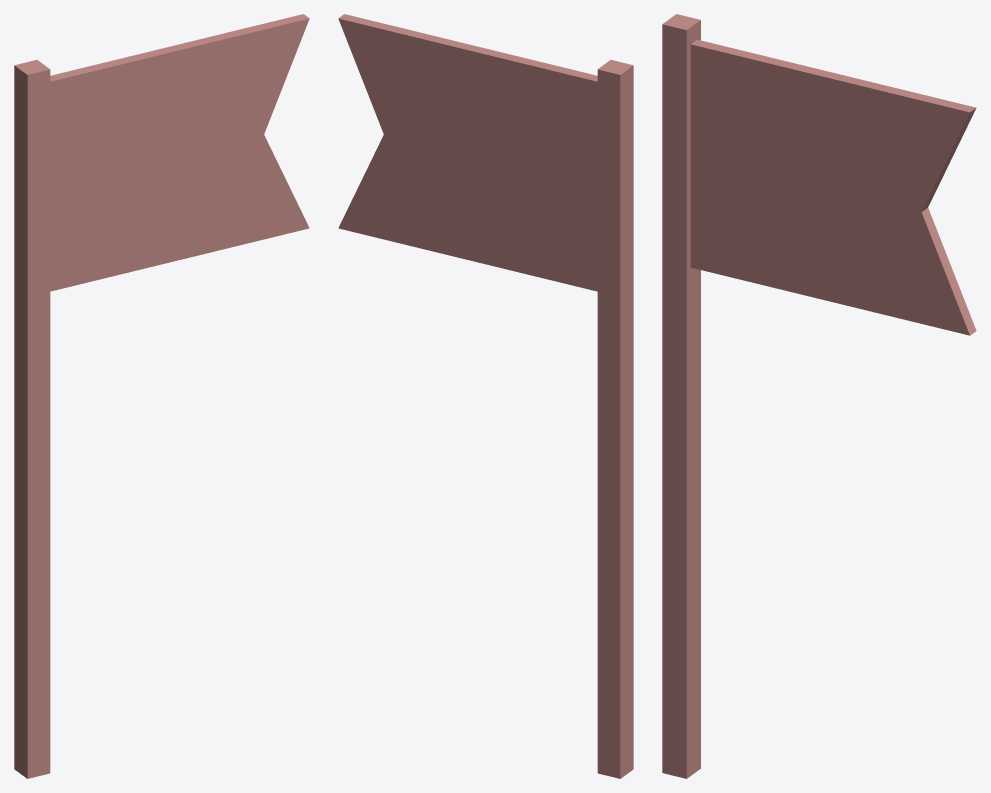
The model's file is flag.glb.
3 renders of one model, left to right at view 1: azimuth 30°, elevation 25°; view 2: azimuth 150°, elevation 25°; view 3: azimuth 330°, elevation 25°, orthographic. The views are drawn at different scales.
Visible parts, largest first — view 1: Cube.001; view 2: Cube.001; view 3: Cube.001.
Boxes of the visible parts, x1,y1,x2,y2 form: Cube.001: (14, 14, 309, 778); Cube.001: (338, 14, 633, 778); Cube.001: (662, 14, 976, 778).
Size of the model in its own units: 0.9215 by 2.17 by 0.074.
